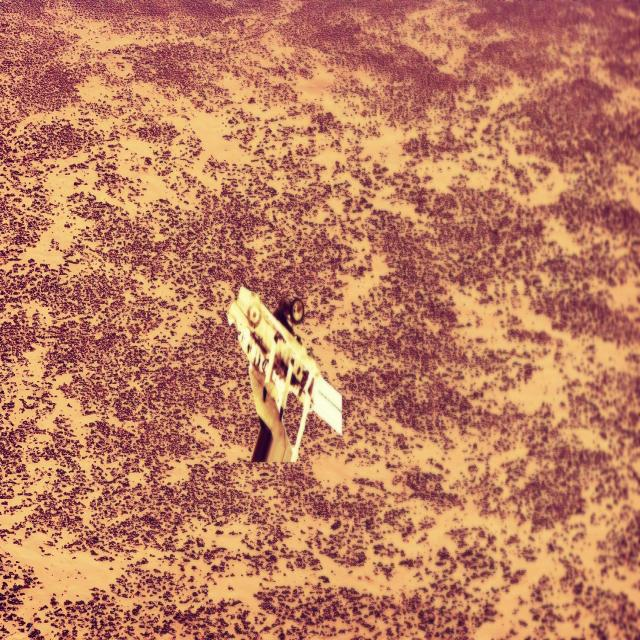airplane: (226, 285, 343, 465)
